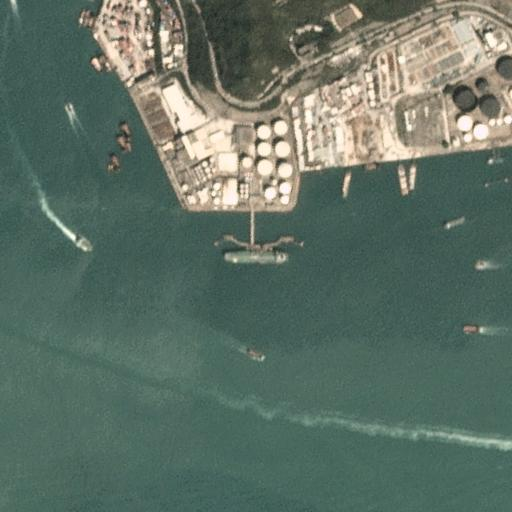ship: (224, 250, 288, 262), (444, 214, 466, 230), (397, 164, 408, 195), (342, 168, 353, 198), (246, 347, 267, 362), (75, 234, 92, 252), (407, 162, 417, 192), (90, 57, 103, 72), (462, 324, 483, 333), (65, 102, 75, 115), (475, 260, 488, 270)
